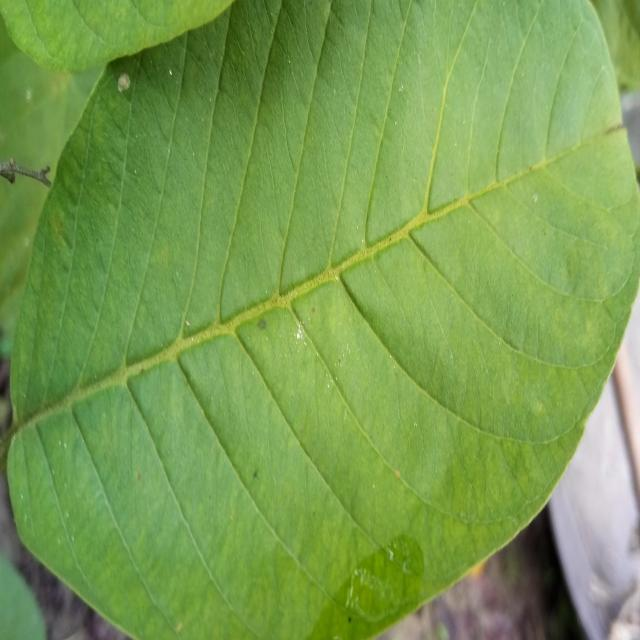Disease Free: (9, 2, 640, 637)
